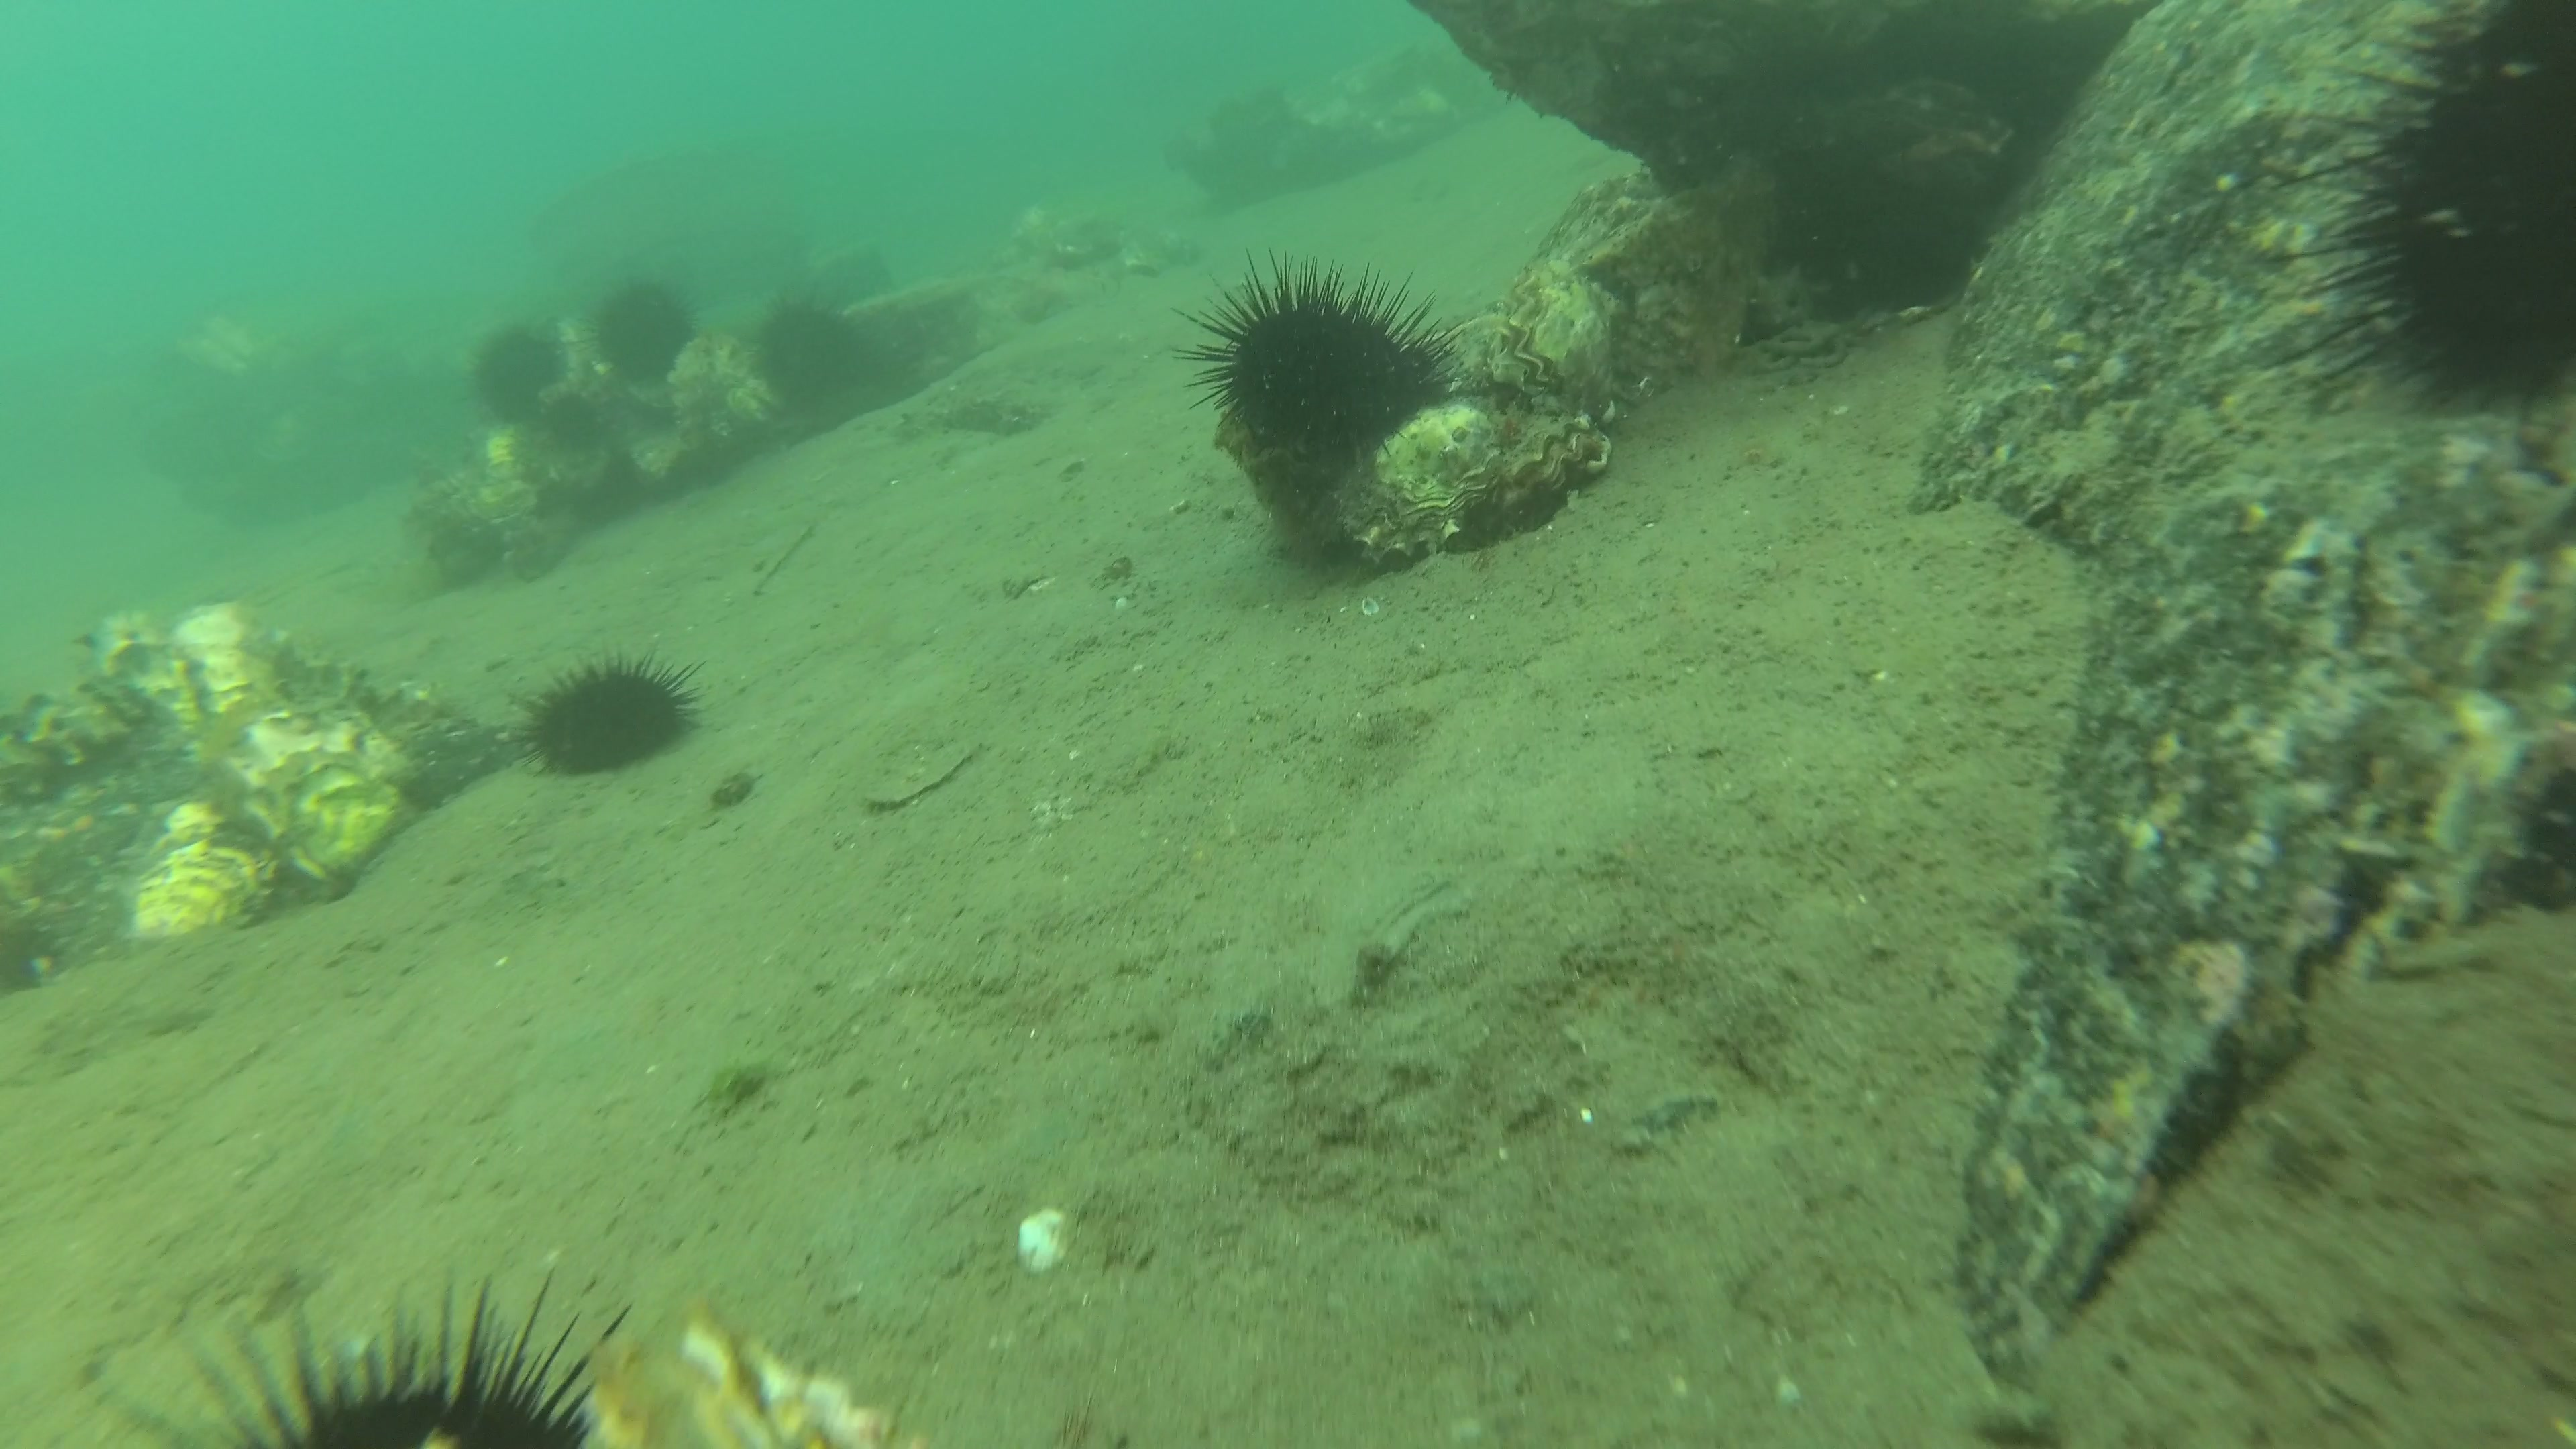echinus: (2259, 2, 2576, 419), (115, 1265, 639, 1449), (1169, 258, 1467, 469), (499, 639, 711, 777), (748, 283, 870, 405), (577, 280, 702, 384), (462, 324, 566, 426), (1753, 258, 1819, 327), (541, 386, 602, 446)
